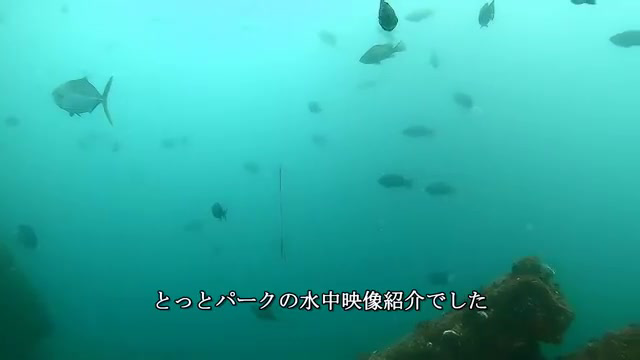smallfish: (50, 73, 112, 127), (357, 42, 417, 68), (371, 171, 412, 194), (400, 120, 441, 142), (418, 180, 459, 200)
